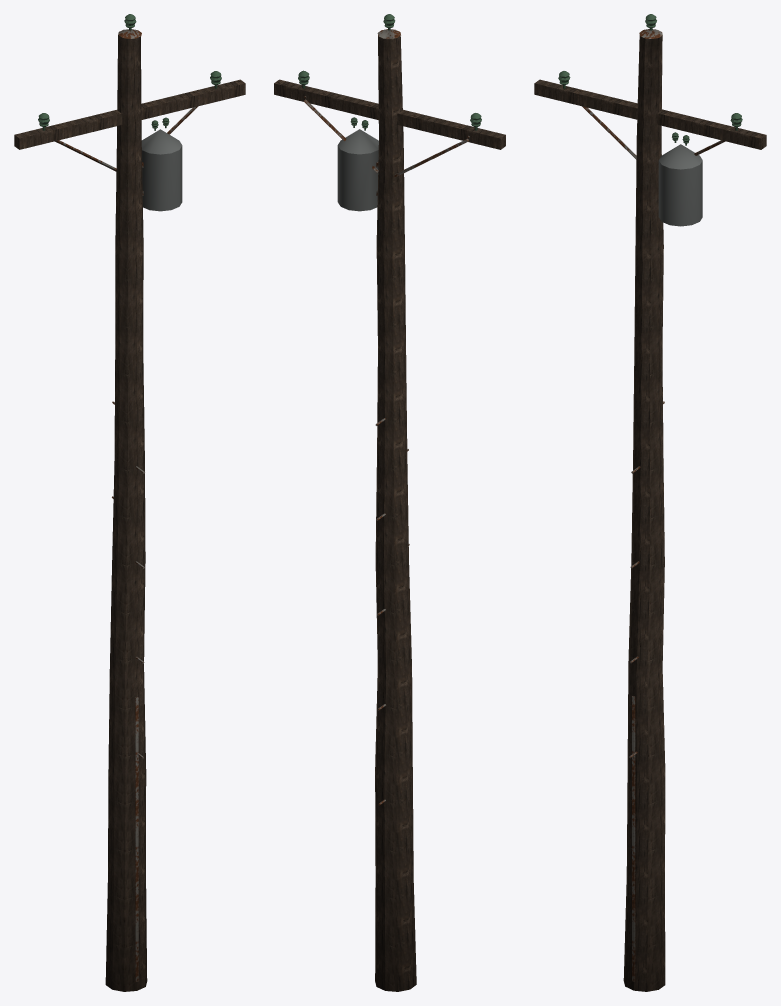
The model's file is utility_pole.glb.
3 views of the same model, side by side, from view 1: azimuth 30°, elevation 25°; view 2: azimuth 150°, elevation 25°; view 3: azimuth 330°, elevation 25° (orthographic).
Visible parts, largest first — view 1: utility_pole_wood_pole, utility_pole_paint_grey, utility_pole_galvanized, utility_pole_insulator_glass; view 2: utility_pole_wood_pole, utility_pole_paint_grey, utility_pole_galvanized, utility_pole_insulator_glass; view 3: utility_pole_wood_pole, utility_pole_paint_grey, utility_pole_galvanized, utility_pole_insulator_glass.
Boxes of the visible parts, x1=… form: utility_pole_wood_pole: x1=14, y1=29, x2=245, y2=991; utility_pole_paint_grey: x1=141, y1=129, x2=182, y2=211; utility_pole_galvanized: x1=55, y1=29, x2=197, y2=981; utility_pole_insulator_glass: x1=38, y1=14, x2=221, y2=130; utility_pole_wood_pole: x1=274, y1=35, x2=505, y2=991; utility_pole_paint_grey: x1=337, y1=129, x2=378, y2=211; utility_pole_galvanized: x1=304, y1=29, x2=469, y2=805; utility_pole_insulator_glass: x1=298, y1=14, x2=481, y2=130; utility_pole_wood_pole: x1=534, y1=29, x2=766, y2=991; utility_pole_paint_grey: x1=658, y1=144, x2=702, y2=226; utility_pole_galvanized: x1=582, y1=29, x2=725, y2=981; utility_pole_insulator_glass: x1=558, y1=14, x2=742, y2=145.
Size of the model in its own units: 2.5 by 10.21 by 0.6105.
4 materials, 2 textured.
